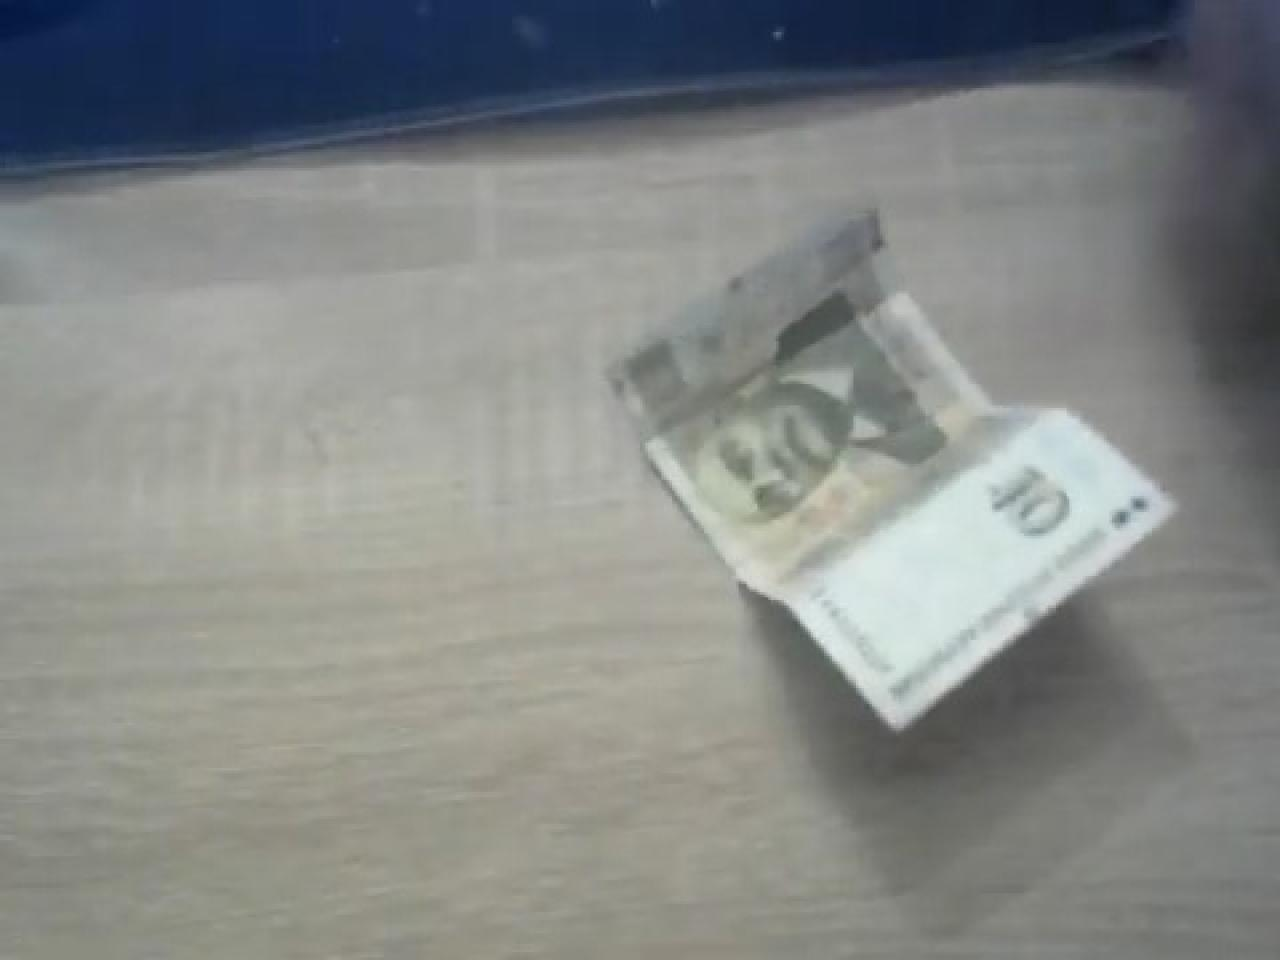10leva: (611, 214, 1178, 736)
